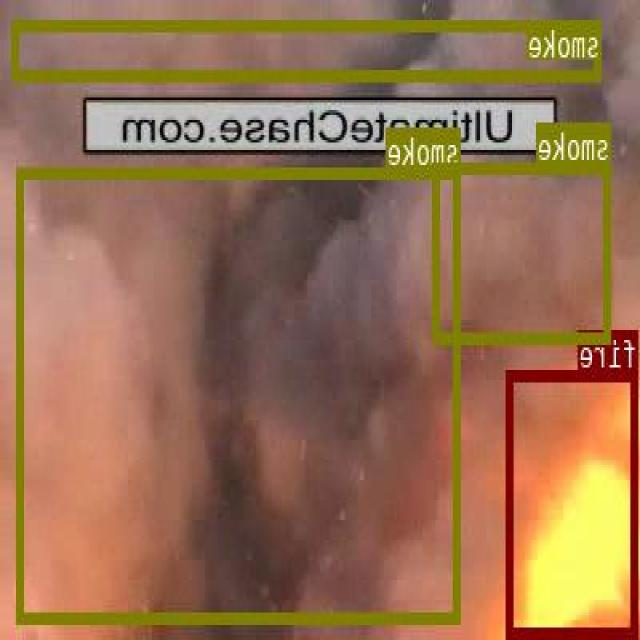fire: (509, 369, 639, 635)
smoke: (19, 166, 461, 621), (14, 20, 603, 78), (434, 162, 612, 340)
